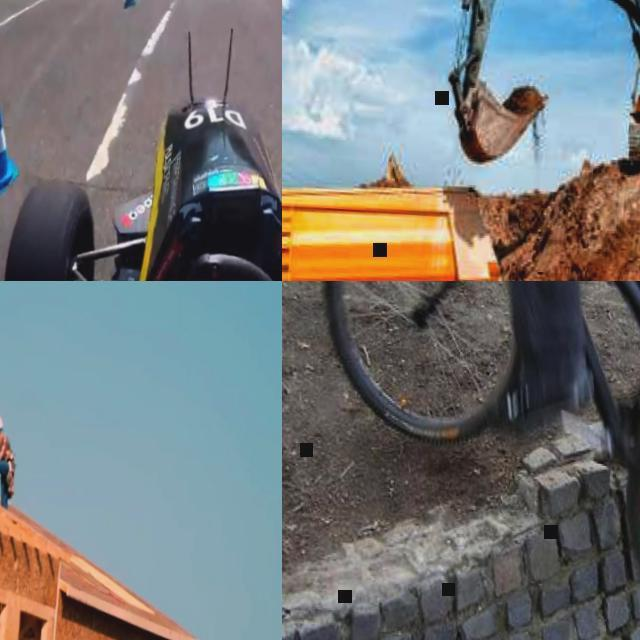helmet: (0, 414, 4, 432)
machinery: (441, 0, 640, 192), (282, 165, 513, 281)
no_vest: (0, 432, 16, 460)
person: (414, 281, 640, 442), (0, 412, 20, 506)
safety_cone: (0, 92, 17, 188)
vehicle: (0, 77, 282, 281)
